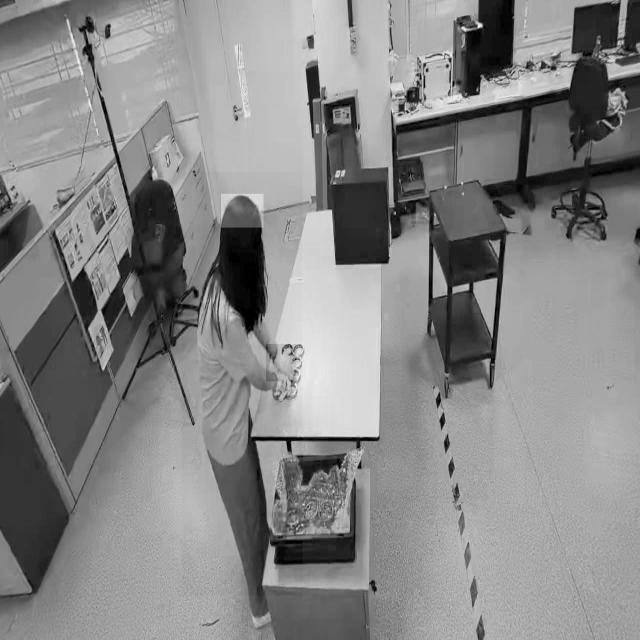hand_glove: (266, 344, 296, 381)
head_nohelmet: (220, 194, 264, 228)
person: (181, 172, 303, 596)
